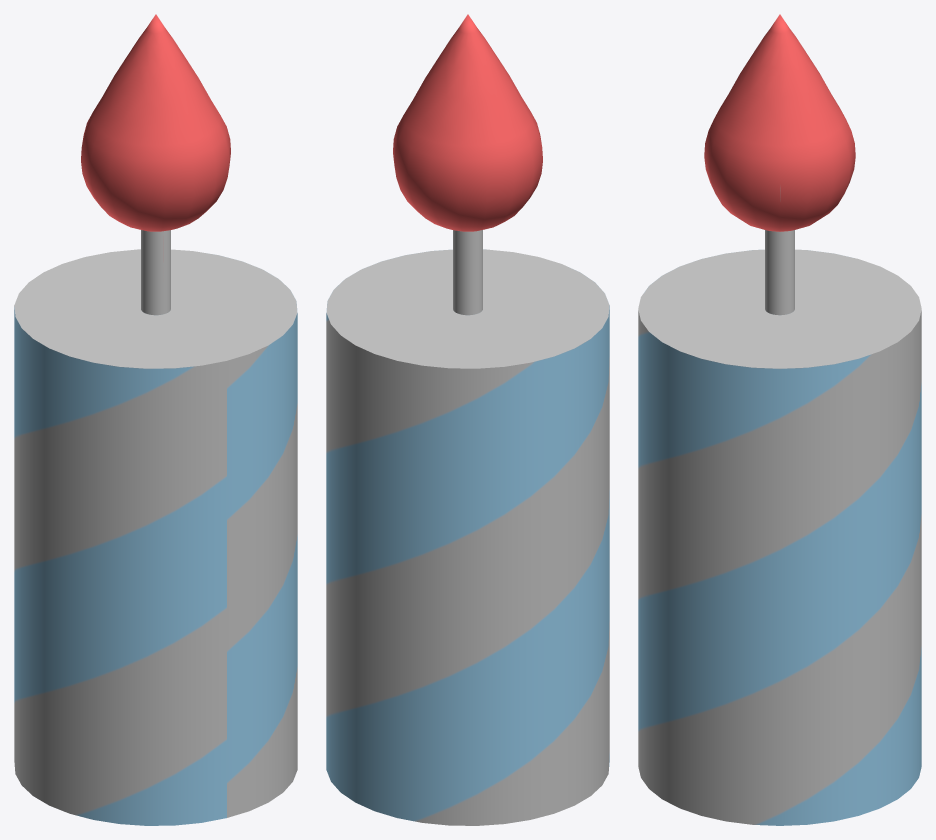
The model's file is candle1.fbx.
3 renders of one model, left to right at view 1: azimuth 30°, elevation 25°; view 2: azimuth 150°, elevation 25°; view 3: azimuth 270°, elevation 25°, orthographic.
Parts seen in each view (by area): view 1: Cylinder; view 2: Cylinder; view 3: Cylinder.
Part boxes in pixels (x1,y1,x2,y2): Cylinder: [14, 14, 297, 825]; Cylinder: [326, 14, 609, 825]; Cylinder: [638, 14, 921, 825].
Size of the model in its own units: 1.12 by 3.29 by 1.12.
Materials: 1 (1 with a texture image).
